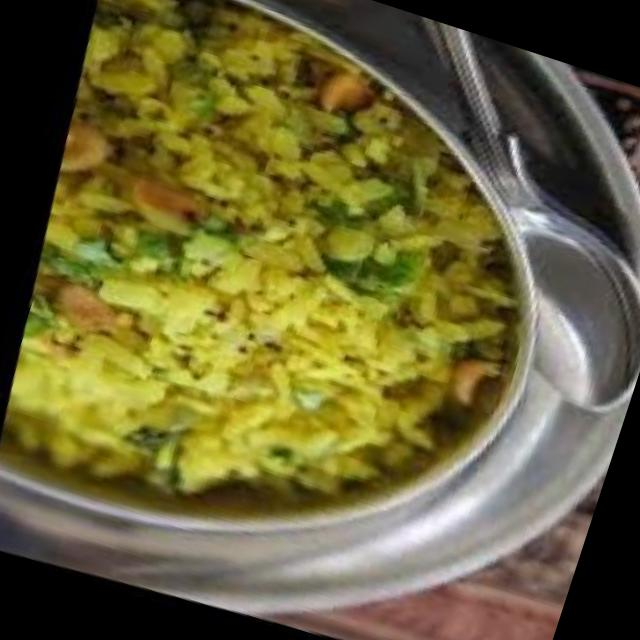poha: (0, 0, 604, 593)
